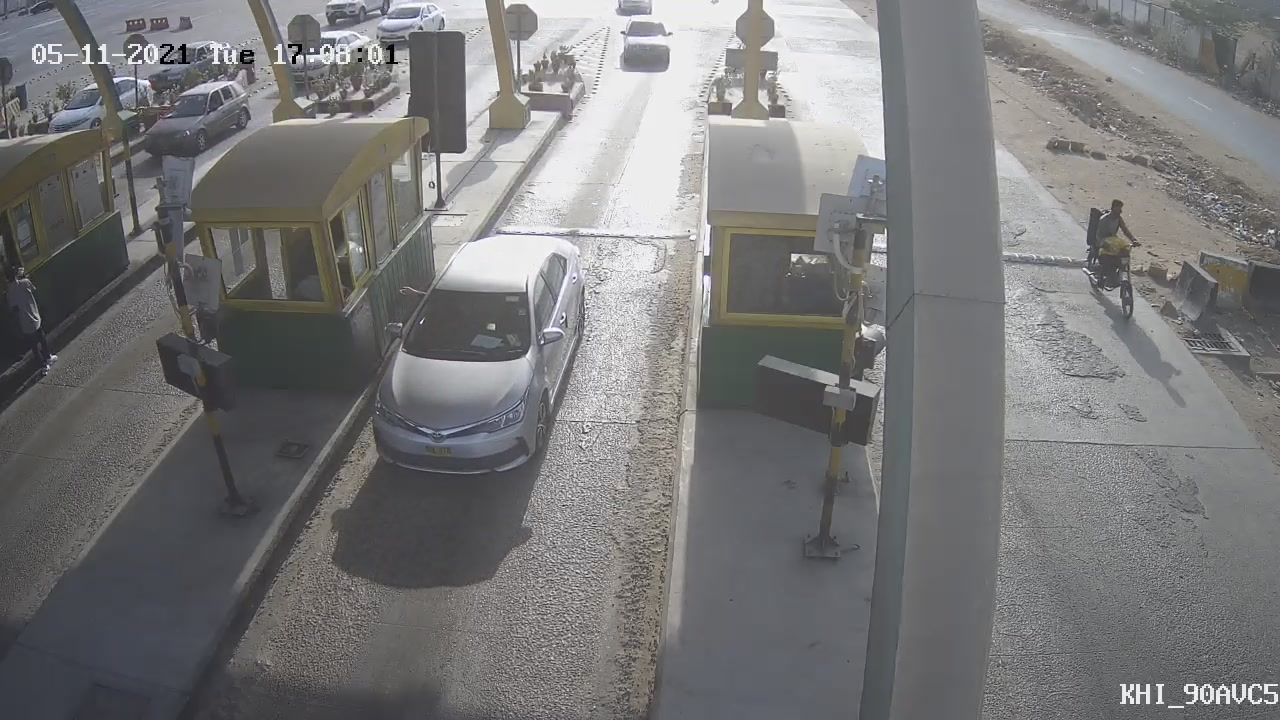F1: (342, 212, 607, 496)
